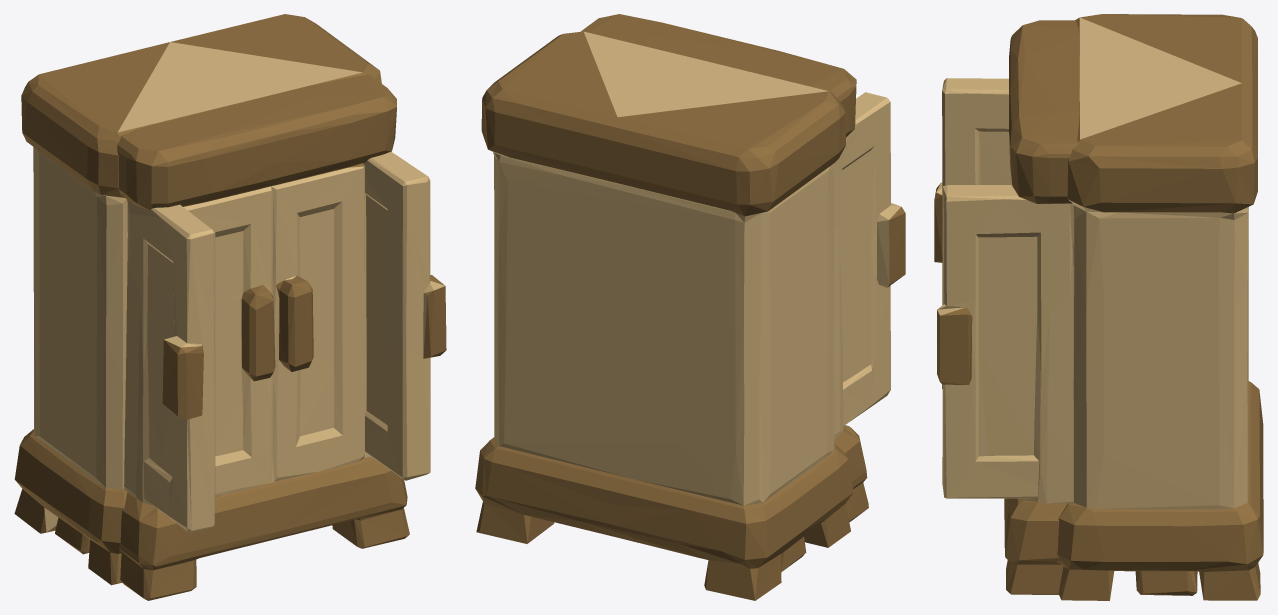
File: prop_gift_wardrobe.glb
The picture shows the model from 3 angles, left to right: view 1: azimuth 30°, elevation 25°; view 2: azimuth 150°, elevation 25°; view 3: azimuth 270°, elevation 25°; orthographic projection.
Visible parts, largest first — view 1: world, WardrobeBody, WardrobeDoorLeft, WardrobeDoorRight; view 2: WardrobeBody, WardrobeDoorLeft, world; view 3: WardrobeBody, WardrobeDoorRight, world, WardrobeDoorLeft.
Boxes of the visible parts, x1,y1,x2,y2 form: world: (55,74,409,600); WardrobeBody: (14,14,381,585); WardrobeDoorLeft: (127,199,215,531); WardrobeDoorRight: (363,151,446,480); WardrobeBody: (475,31,853,600); WardrobeDoorLeft: (833,92,905,425); world: (580,14,868,571); WardrobeBody: (1057,14,1263,600); WardrobeDoorRight: (937,185,1073,498); world: (1004,20,1197,595); WardrobeDoorLeft: (934,78,1011,388).
Bounding box in the file's own units: 0.6965 × 1 × 0.6613.
